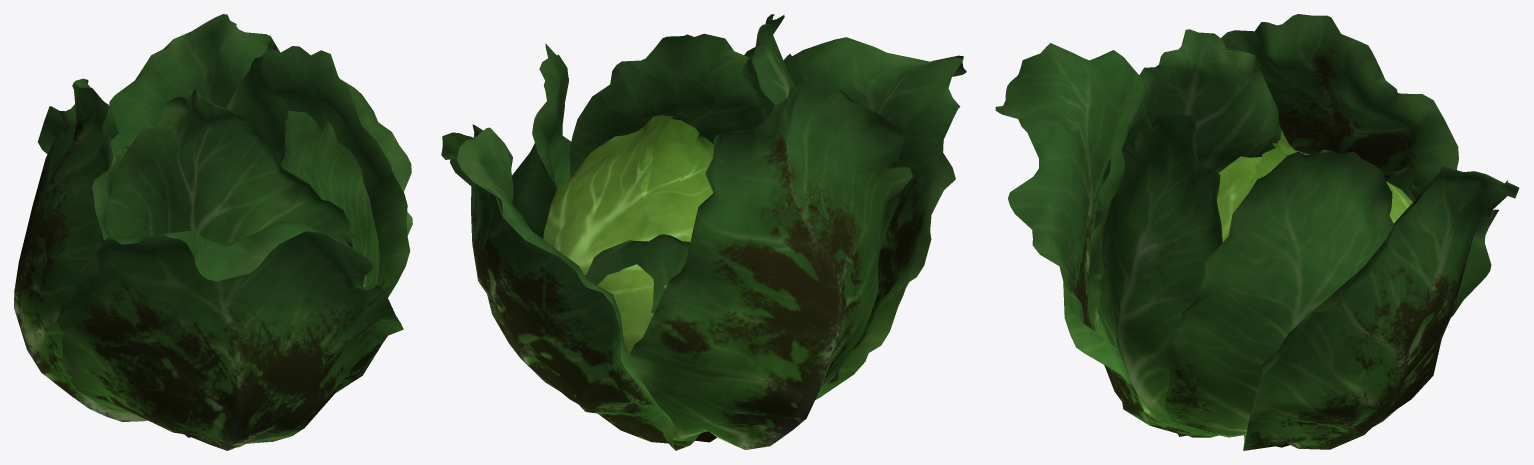
Rendered from SM_Plant_10.fbx.
3 views of the same model, side by side, from view 1: azimuth 30°, elevation 25°; view 2: azimuth 150°, elevation 25°; view 3: azimuth 270°, elevation 25° (orthographic). The views are drawn at different scales.
Visible parts, largest first — view 1: SM_Plant_10; view 2: SM_Plant_10; view 3: SM_Plant_10.
Boxes of the visible parts, x1,y1,x2,y2 form: SM_Plant_10: (14, 14, 412, 450); SM_Plant_10: (441, 14, 966, 450); SM_Plant_10: (995, 14, 1519, 450).
Size of the model in its own units: 24.69 by 26.37 by 21.57.
1 material, 1 textured.
